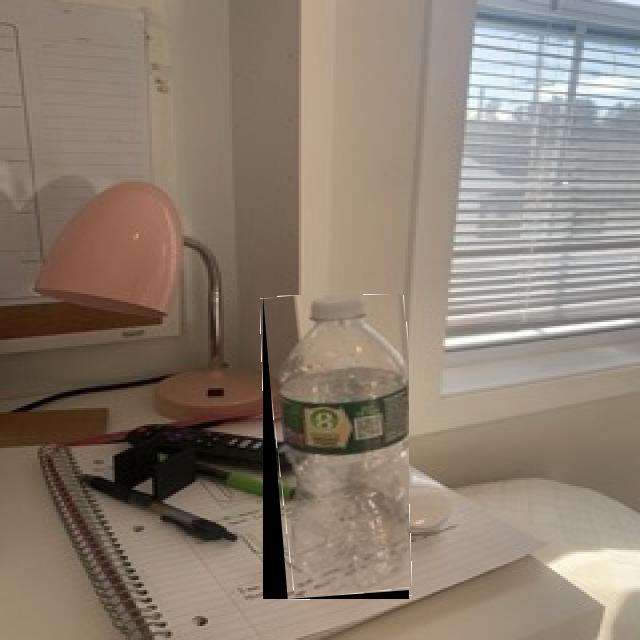water_bottle: (263, 295, 409, 599)
